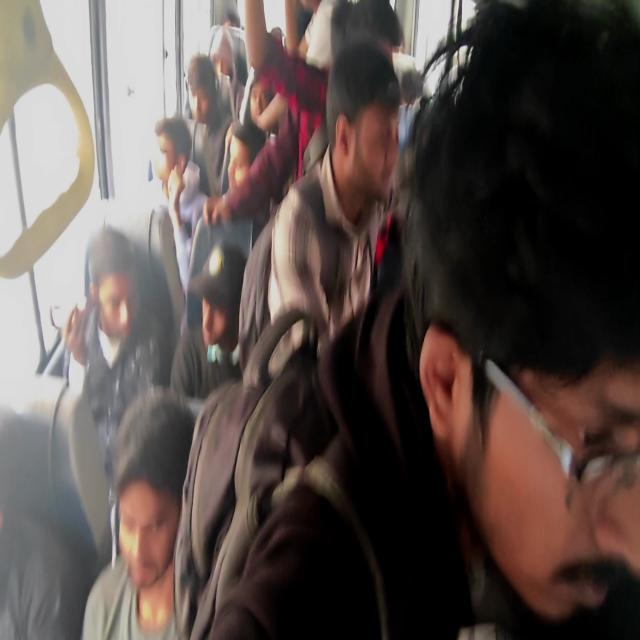person: (428, 20, 604, 640), (99, 432, 180, 640), (331, 66, 390, 272), (81, 222, 145, 370), (0, 411, 36, 629), (324, 0, 383, 105), (196, 269, 253, 355), (156, 120, 194, 224), (226, 140, 281, 191), (186, 60, 216, 138), (207, 23, 241, 86), (406, 55, 430, 131), (244, 78, 273, 107), (220, 0, 241, 35)
